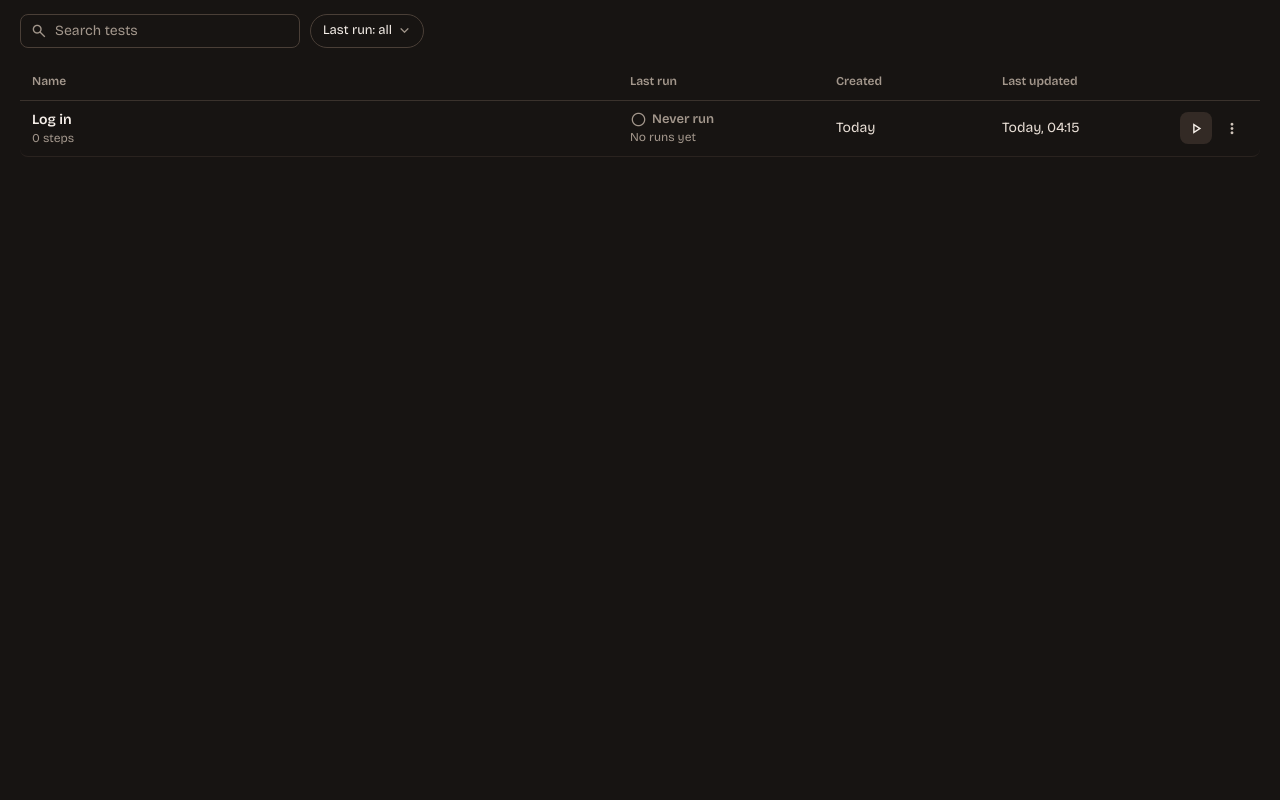
Test: Copy link › on a test's menu: a link naming the tests folder by its own id, which opens the test
Click the button named "More for Log in" at (1232, 128), box left=1216, top=112, right=1248, bottom=144
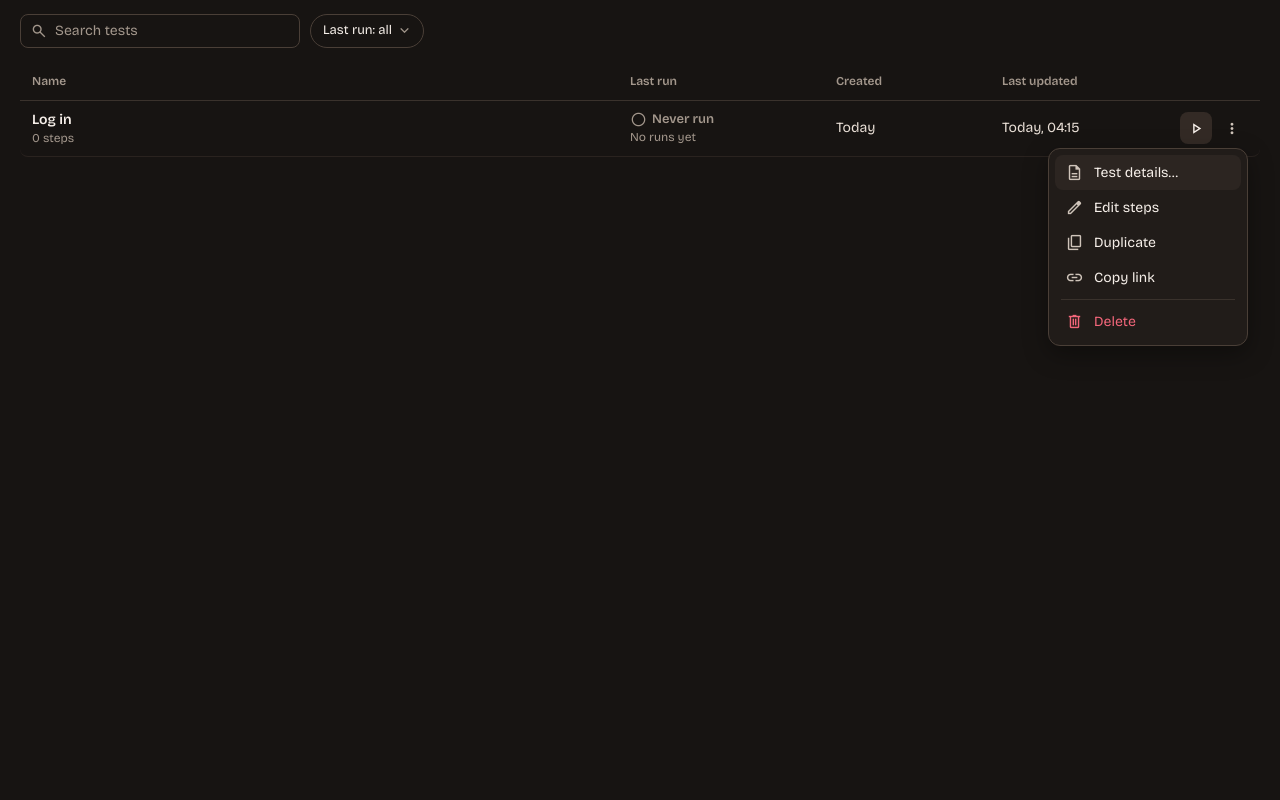
Click the menu item "Copy link" at (1148, 278), box left=1055, top=260, right=1241, bottom=295
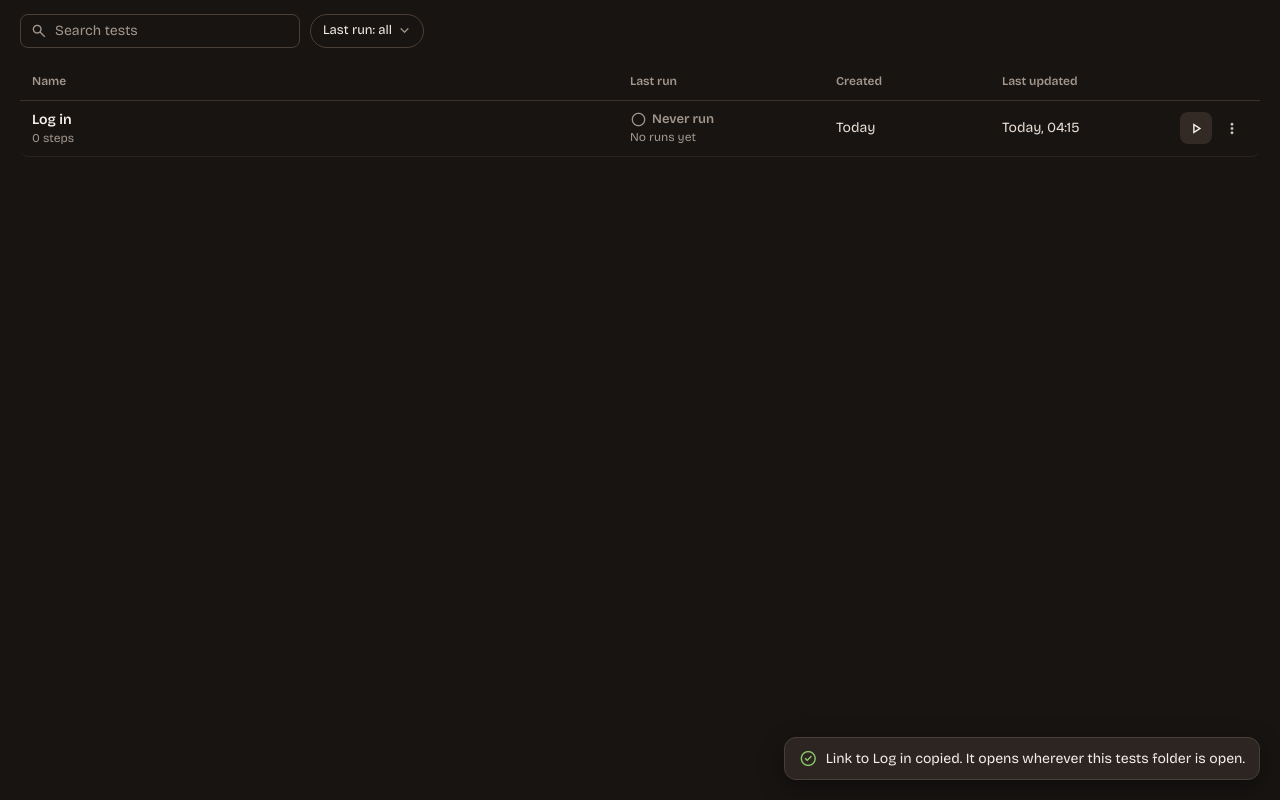
Expected: the text "Link to Log in copied. It opens wherever this tests folder is open." is shown, left=826, top=748, right=1245, bottom=769
